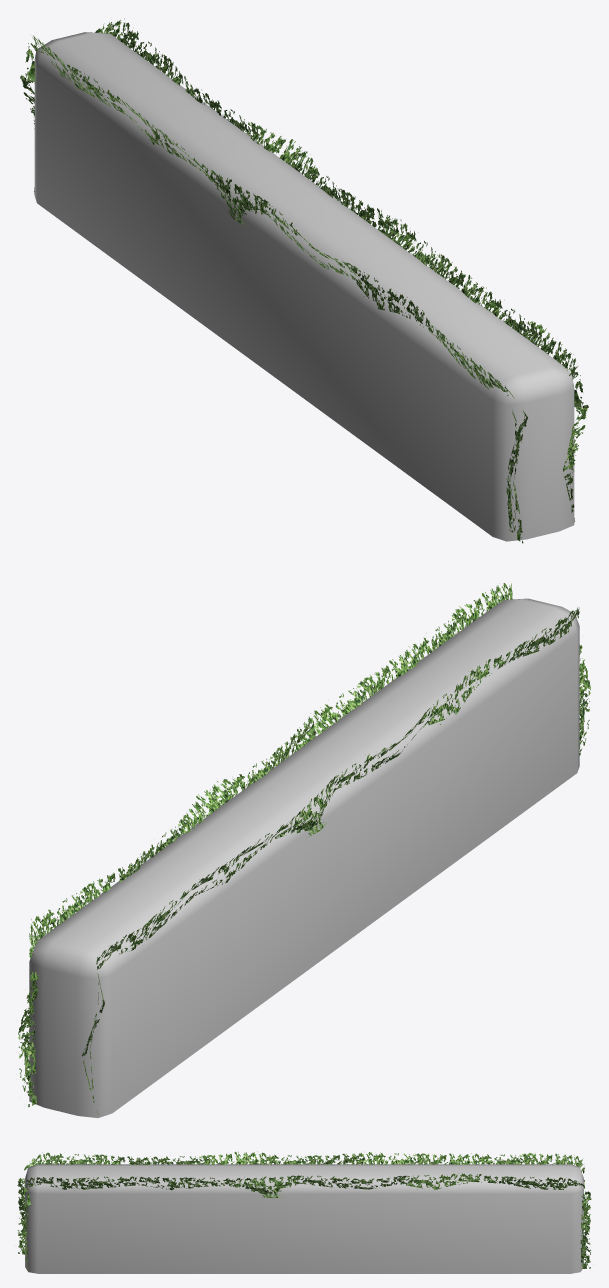
Rendered from Hedge02.FBX.
3 views of the same model, one above another, from view 1: azimuth 30°, elevation 25°; view 2: azimuth 150°, elevation 25°; view 3: azimuth 270°, elevation 25° (orthographic). The views are drawn at different scales.
Visible parts, largest first — view 1: Hedge005, Hedge010, Hedge008, Hedge006, Hedge009; view 2: Hedge005, Hedge010, Hedge008, Hedge006, Hedge009; view 3: Hedge005, Hedge008, Hedge010, Hedge009, Hedge006.
Part boxes in pixels (x1,y1,x2,y2): Hedge005: (34,32,574,541); Hedge010: (95,18,580,512); Hedge008: (28,35,527,532); Hedge006: (20,43,523,543); Hedge009: (101,31,588,522); Hedge005: (29,598,579,1117); Hedge010: (18,583,512,1093); Hedge008: (89,607,590,1103); Hedge006: (82,615,585,1115); Hedge009: (22,591,511,1107); Hedge005: (25,1164,583,1273); Hedge008: (17,1151,584,1247); Hedge010: (23,1173,591,1265); Hedge009: (21,1180,590,1270); Hedge006: (18,1158,587,1254).
Bounding box in the file's own units: 2525 × 3885 × 20414.
